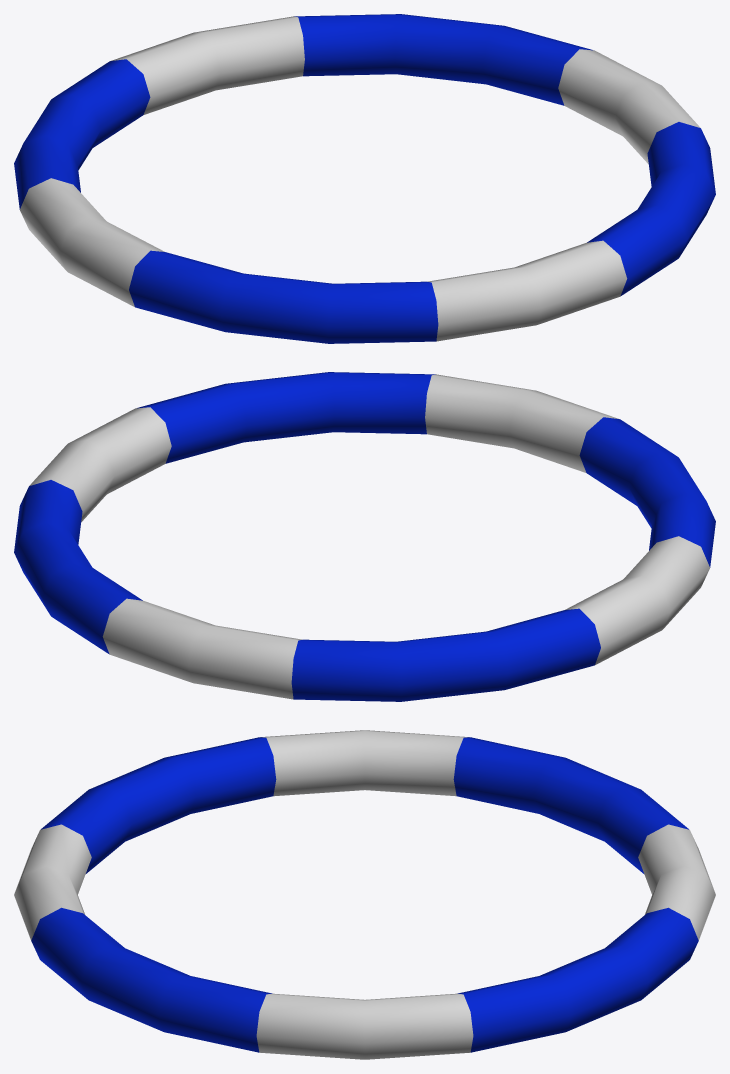
The model's file is bluering.fbx.
The picture shows the model from 3 angles, top to bottom: view 1: azimuth 30°, elevation 25°; view 2: azimuth 150°, elevation 25°; view 3: azimuth 270°, elevation 25°; orthographic projection.
Visible parts, largest first — view 1: ring2; view 2: ring2; view 3: ring2.
Boxes of the visible parts, left/top/right/bottom form: ring2: left=14, top=14, right=715, bottom=343; ring2: left=14, top=372, right=715, bottom=701; ring2: left=14, top=730, right=715, bottom=1059.
Size of the model in its own units: 2.2 by 0.2 by 2.2.
